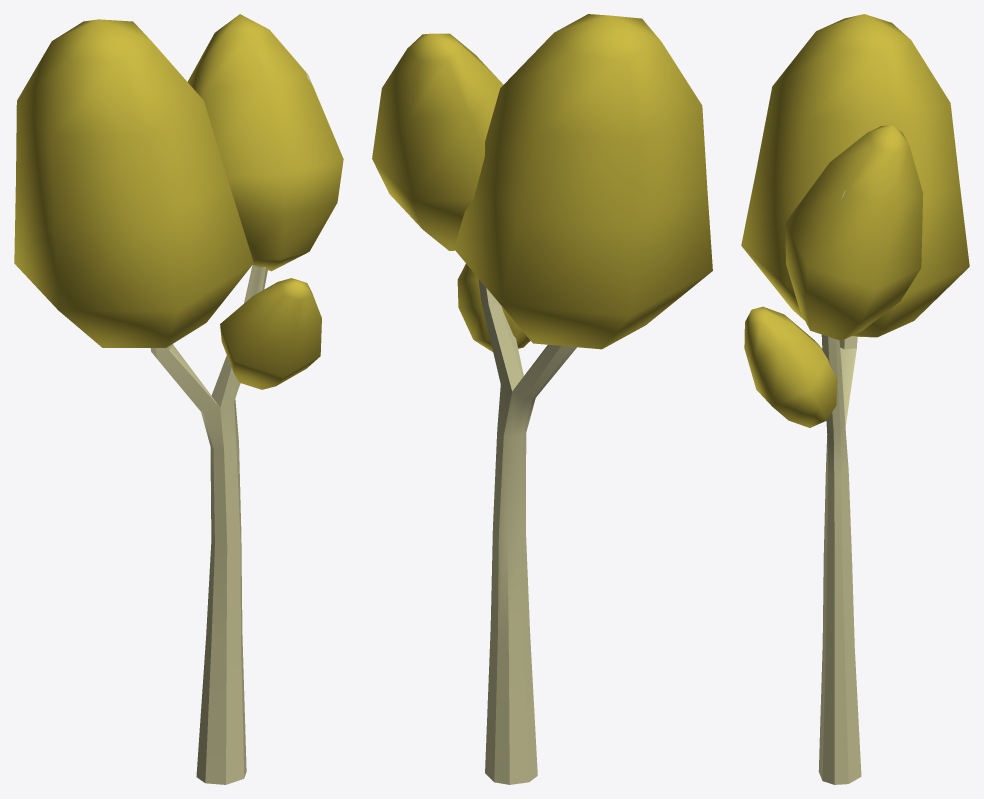
The model's file is Birch_Tree_02.fbx.
The picture shows the model from 3 angles, left to right: view 1: azimuth 30°, elevation 25°; view 2: azimuth 150°, elevation 25°; view 3: azimuth 270°, elevation 25°; orthographic projection. The views are drawn at different scales.
Parts seen in each view (by area): view 1: Birch_Tree_02; view 2: Birch_Tree_02; view 3: Birch_Tree_02.
Boxes of the visible parts, box(x1,y1,x2,y2) form: Birch_Tree_02: box(14, 14, 343, 784); Birch_Tree_02: box(372, 14, 712, 784); Birch_Tree_02: box(741, 14, 969, 784).
Bounding box in the file's own units: 3.06 × 7.67 × 2.23.
Materials: 1 (1 with a texture image).
